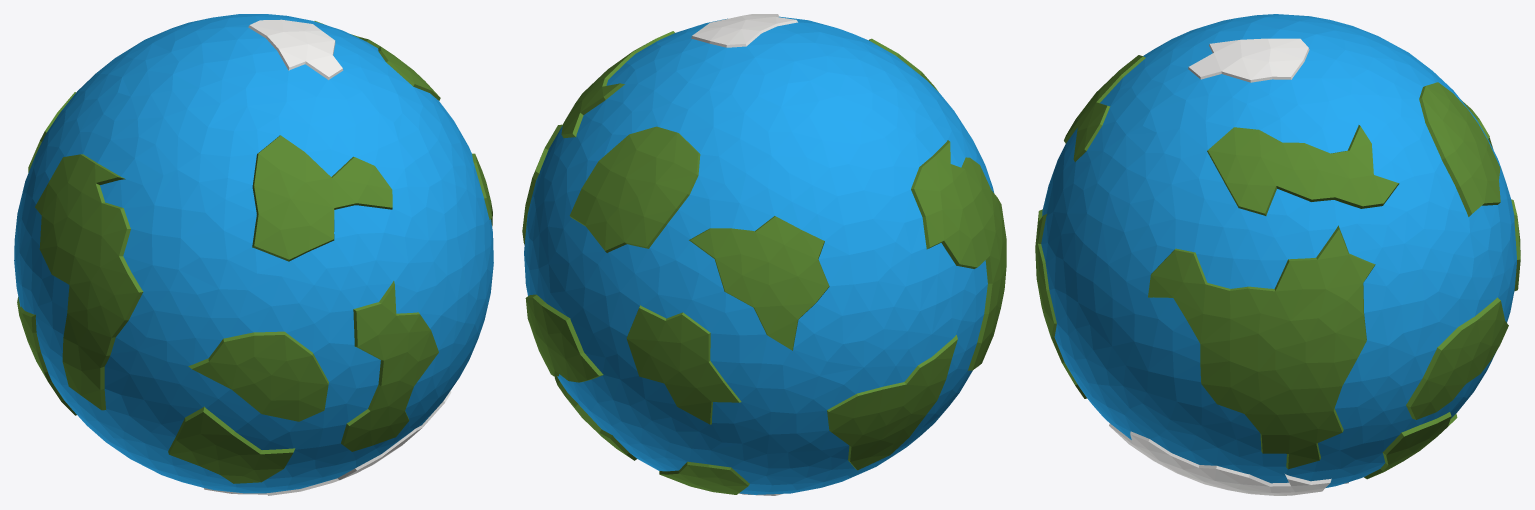
The model's file is earth.fbx.
The picture shows the model from 3 angles, left to right: view 1: azimuth 30°, elevation 25°; view 2: azimuth 150°, elevation 25°; view 3: azimuth 270°, elevation 25°; orthographic projection.
Parts seen in each view (by area): view 1: Sphere, Sphere_2; view 2: Sphere, Sphere_2; view 3: Sphere, Sphere_2.
Part boxes in pixels (x1=…): Sphere: x1=14, y1=14, x2=493, y2=493; Sphere_2: x1=17, y1=19, x2=492, y2=495; Sphere: x1=524, y1=16, x2=993, y2=494; Sphere_2: x1=522, y1=14, x2=1006, y2=495; Sphere: x1=1041, y1=14, x2=1516, y2=487; Sphere_2: x1=1035, y1=38, x2=1520, y2=495.
Bounding box in the file's own units: 202 × 202 × 203.
